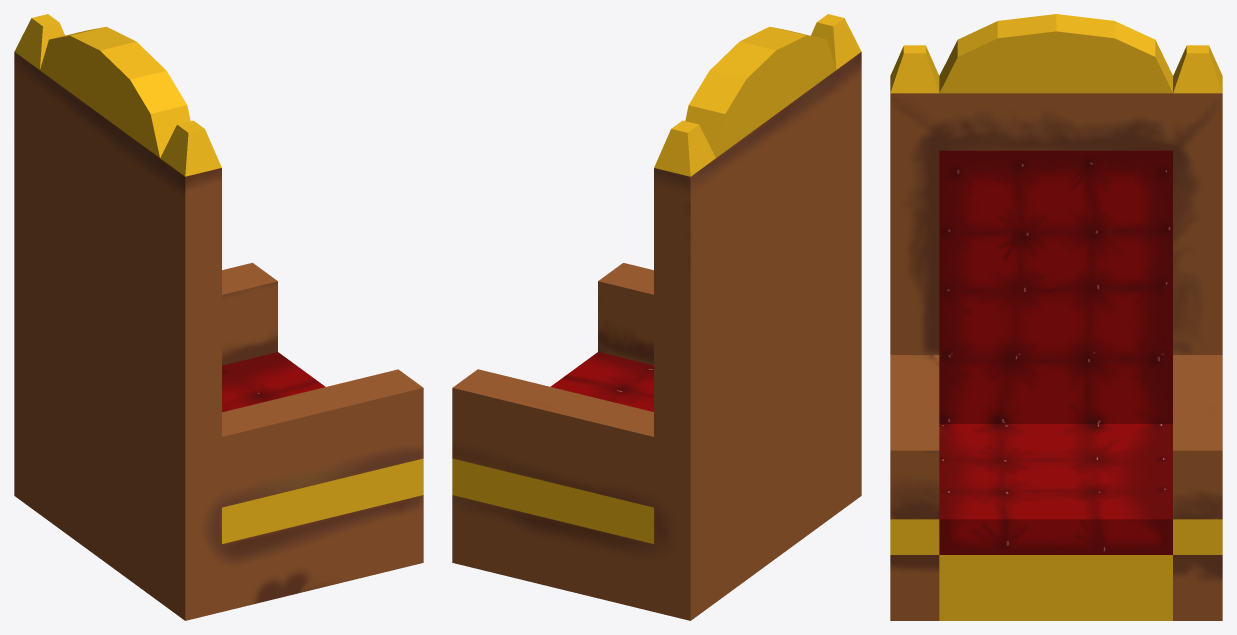
File: Throne.fbx
3 views of the same model, side by side, from view 1: azimuth 30°, elevation 25°; view 2: azimuth 150°, elevation 25°; view 3: azimuth 270°, elevation 25° (orthographic). The views are drawn at different scales.
Visible parts, largest first — view 1: Cube; view 2: Cube; view 3: Cube.
Part boxes in pixels (x1,y1,x2,y2): Cube: (14, 14, 423, 620); Cube: (452, 14, 861, 620); Cube: (890, 14, 1222, 620).
Size of the model in its own units: 236 by 482 by 294.
Materials: 3 (2 with a texture image).
